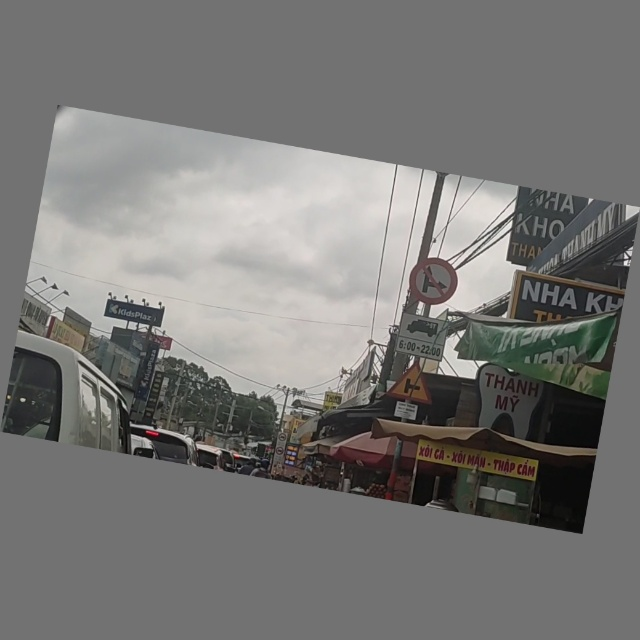P.139: (407, 255, 460, 308)
S.505a*Xe tai: (394, 314, 448, 359)
W.205b: (387, 359, 441, 405)
